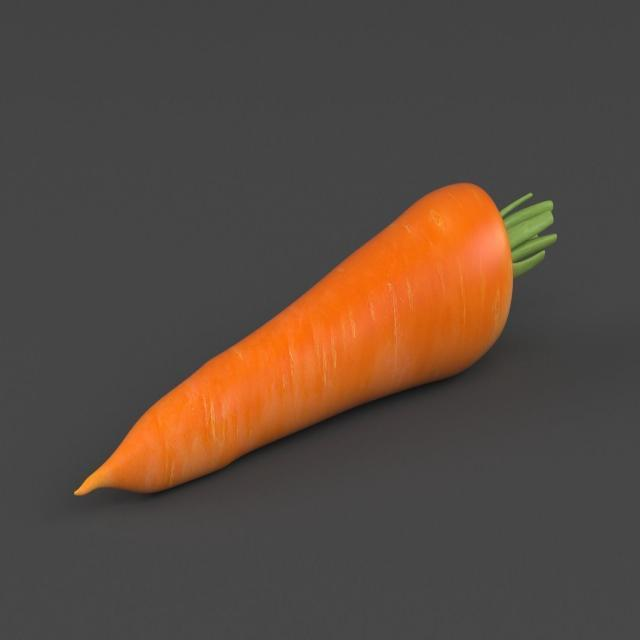carrot: (72, 173, 516, 510)
